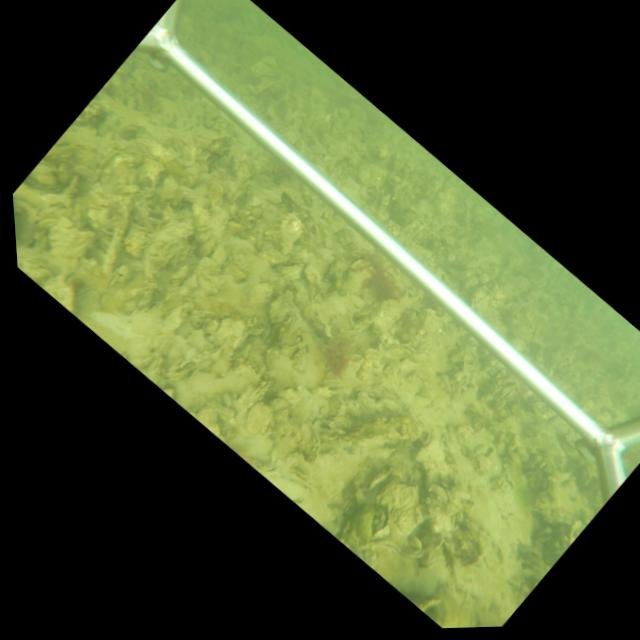Oyster-Closed: (165, 347, 222, 379), (227, 322, 266, 350), (368, 470, 390, 492), (339, 321, 368, 336), (190, 308, 217, 323)
Oyster-Indeterminate: (142, 218, 194, 281), (209, 312, 265, 349)
